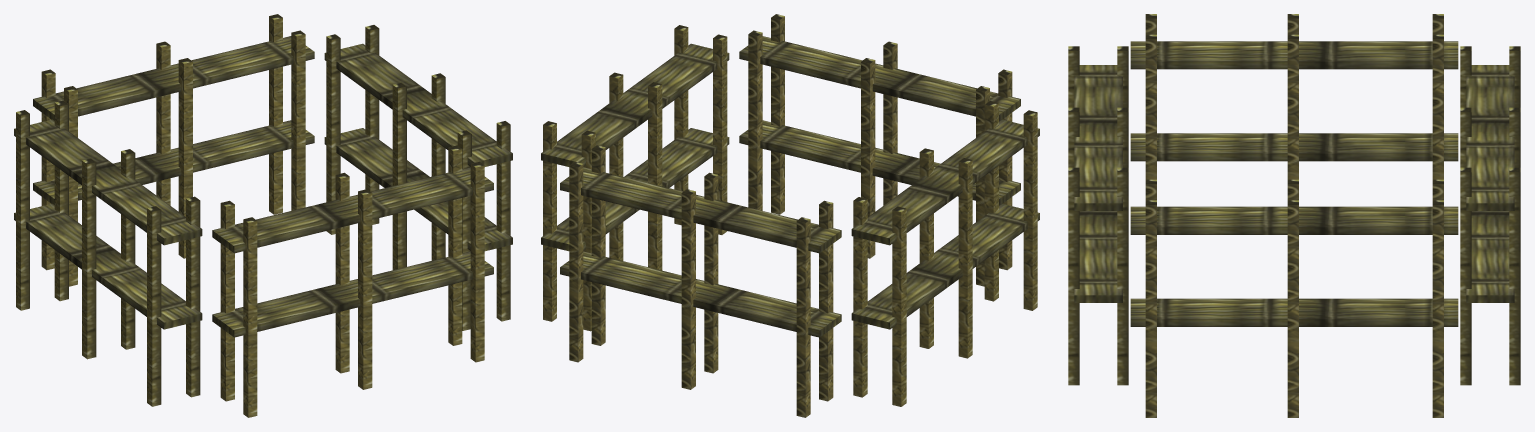
Rendered from o_construction.FBX.
The picture shows the model from 3 angles, left to right: view 1: azimuth 30°, elevation 25°; view 2: azimuth 150°, elevation 25°; view 3: azimuth 270°, elevation 25°; orthographic projection. The views are drawn at different scales.
Parts seen in each view (by area): view 1: o_construction; view 2: o_construction; view 3: o_construction.
Part boxes in pixels (box(x1,y1,x2,y2)): o_construction: box(14, 14, 512, 417); o_construction: box(541, 14, 1039, 417); o_construction: box(1068, 14, 1520, 417).
Bounding box in the file's own units: 239 × 124 × 239.
1 material, 1 textured.
